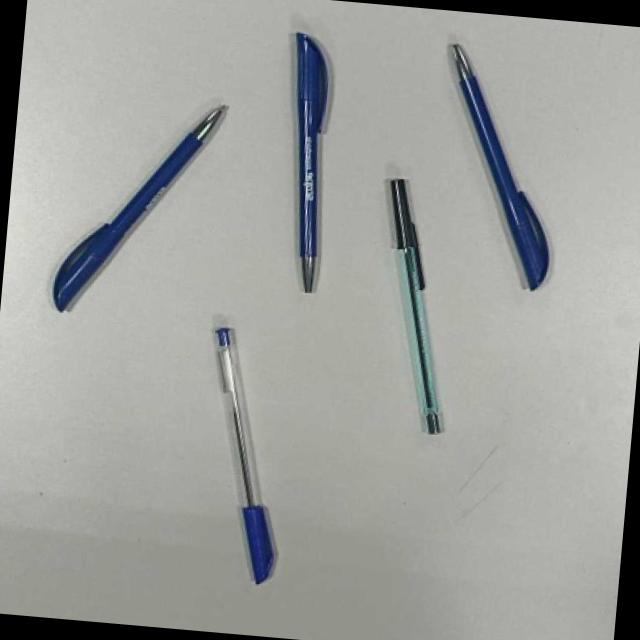caneta: (37, 90, 230, 313), (448, 36, 560, 291), (205, 326, 278, 585), (386, 177, 450, 435), (296, 31, 330, 292)
